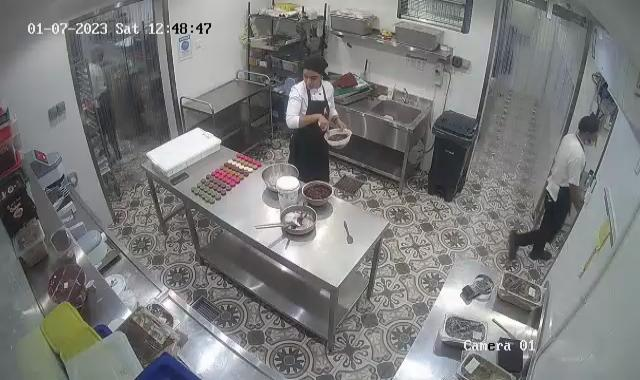no_hairnet: (299, 57, 327, 80), (579, 114, 601, 139)
